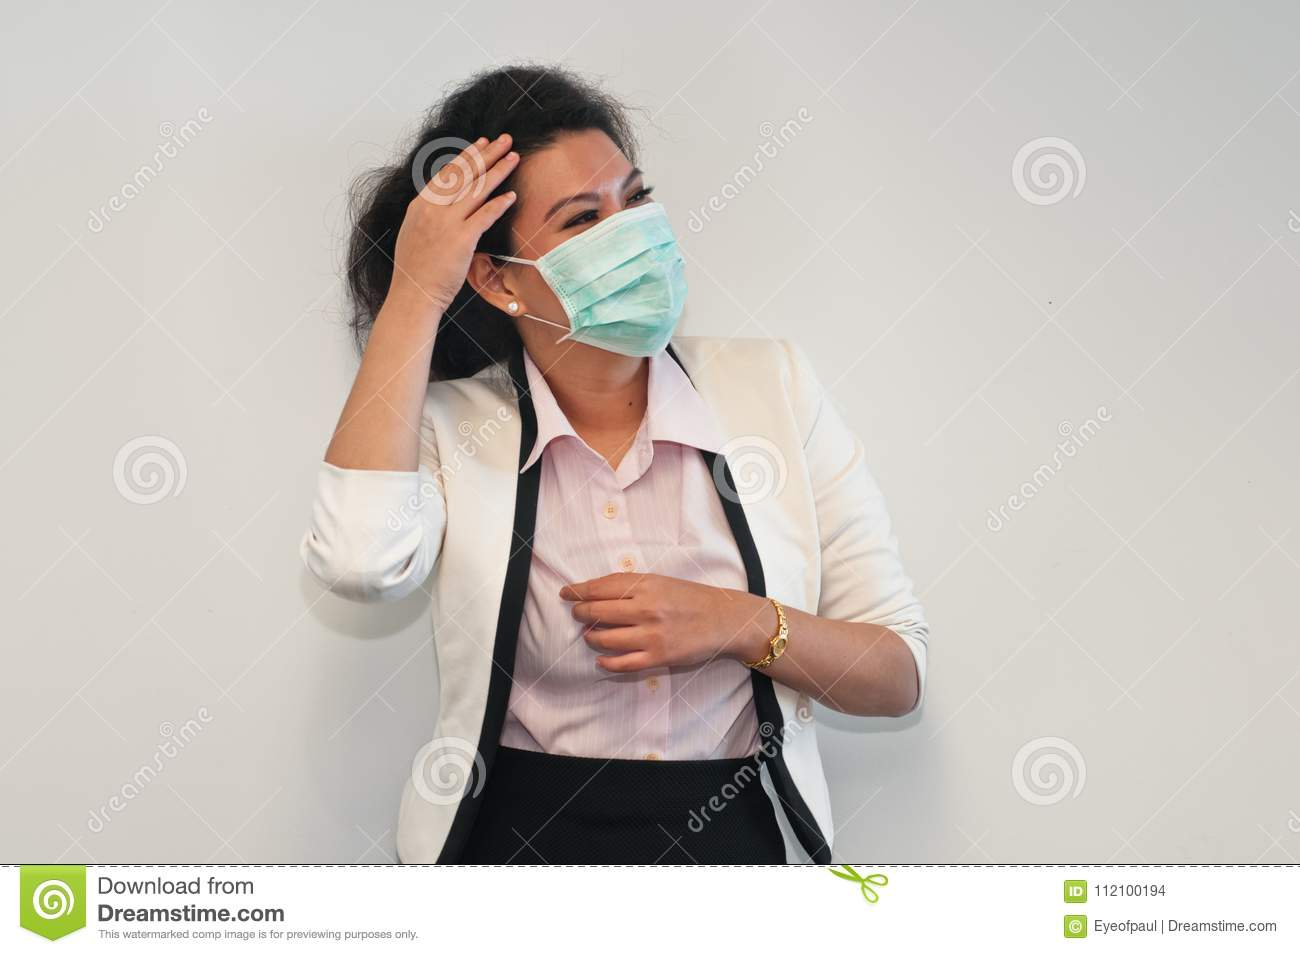mask: (546, 202, 687, 357)
